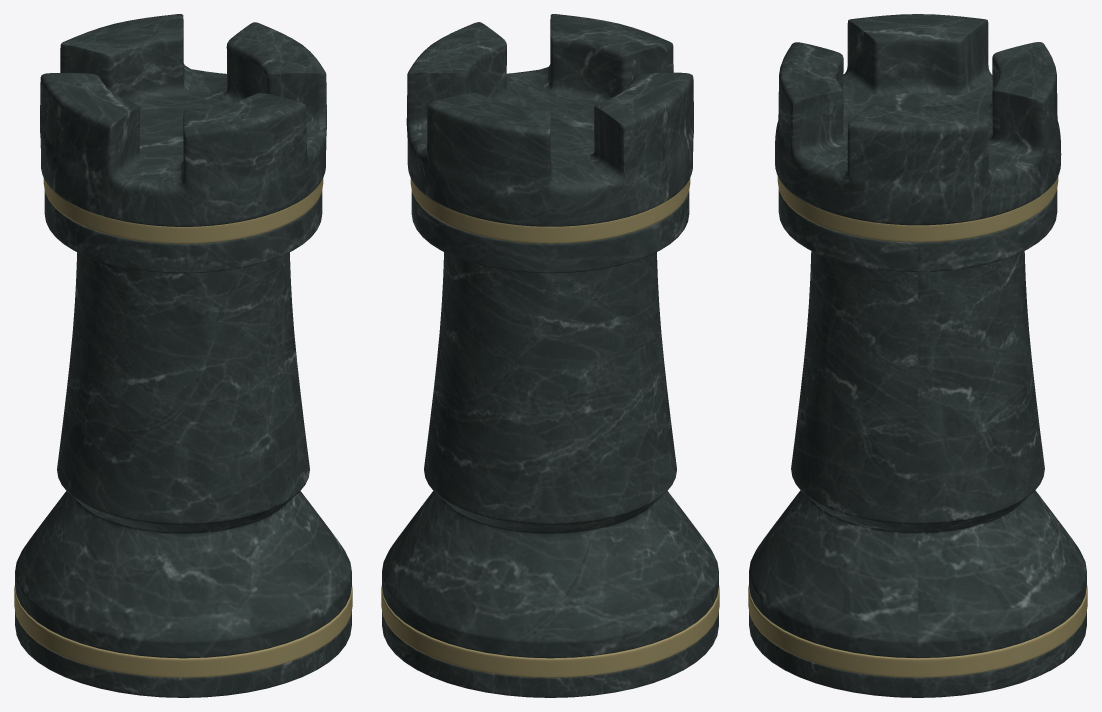
The model's file is B_Rook.glb.
The picture shows the model from 3 angles, left to right: view 1: azimuth 30°, elevation 25°; view 2: azimuth 150°, elevation 25°; view 3: azimuth 270°, elevation 25°; orthographic projection.
Parts seen in each view (by area): view 1: Castle_B1; view 2: Castle_B1; view 3: Castle_B1.
Boxes of the visible parts, bbox=[...] form: Castle_B1: bbox=[14, 14, 352, 697]; Castle_B1: bbox=[381, 14, 719, 697]; Castle_B1: bbox=[748, 14, 1087, 697].
Bounding box in the file's own units: 0.0537 × 0.0971 × 0.0537.
1 material, 1 textured.
